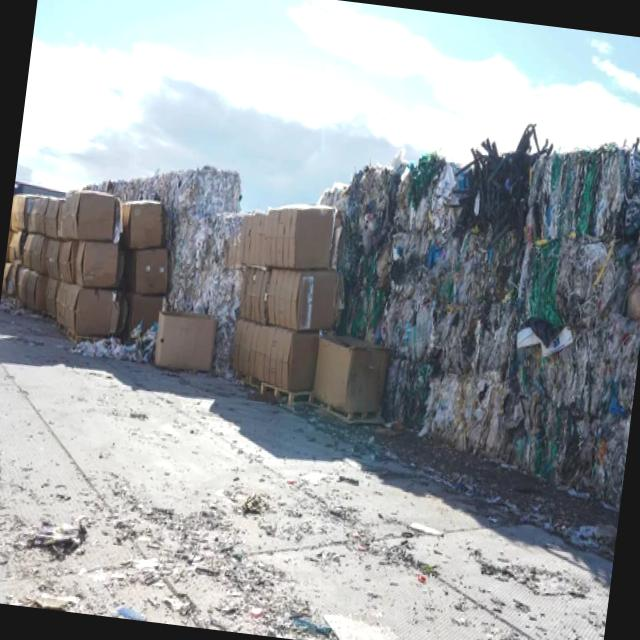garbage: (20, 57, 640, 501)
